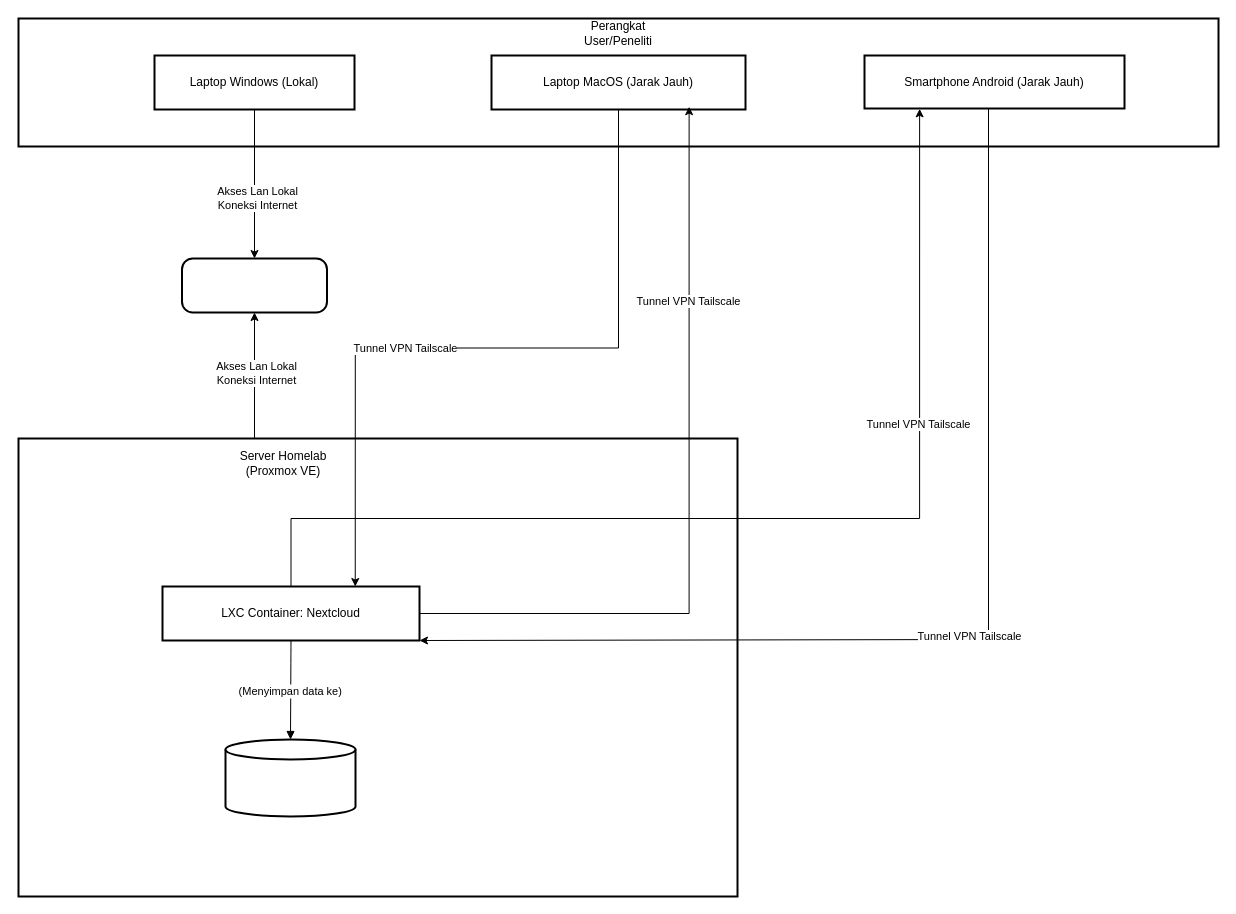
The diagram is 1236 pixels wide and 914 high, and some of its shapes have lost their labels. Each missing label, with the box of its shape:
Router: (180, 257, 328, 313)
Storage ZFS 2TB: (224, 738, 356, 817)
